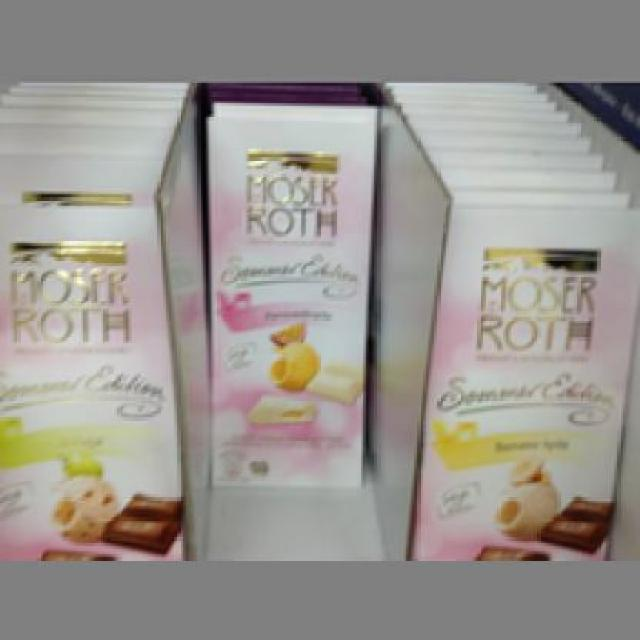Chocolate: (408, 197, 638, 563), (0, 200, 186, 557), (203, 114, 377, 486)
